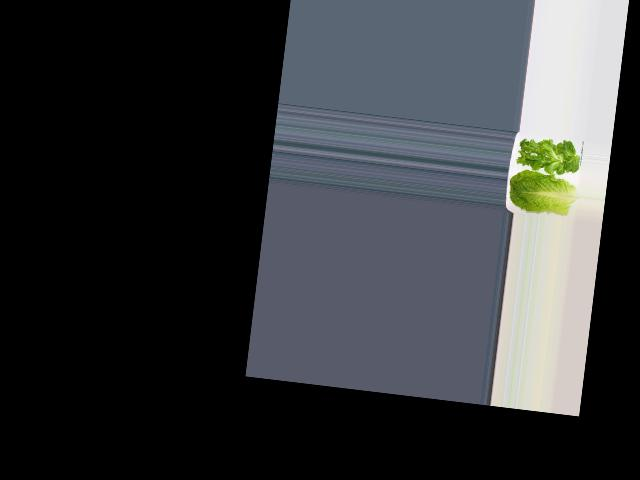lettuce: (515, 131, 580, 175)
